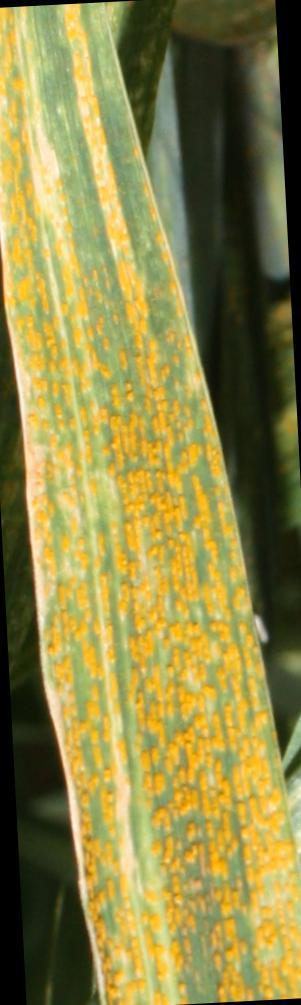Wheat: (40, 557, 301, 1000), (24, 274, 230, 554)
